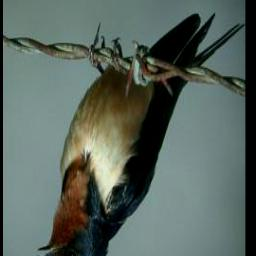Swallow: (37, 14, 246, 256)
